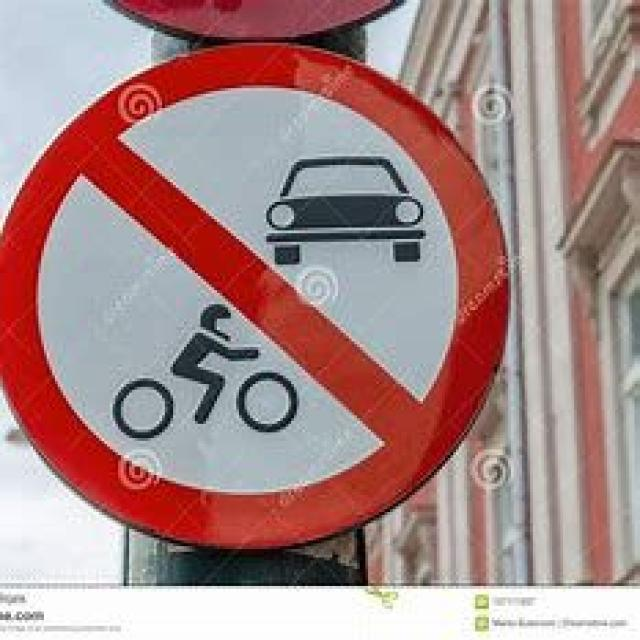ALL_MOTOR_VEHICLE_PROHIBITED: (0, 51, 525, 558)
